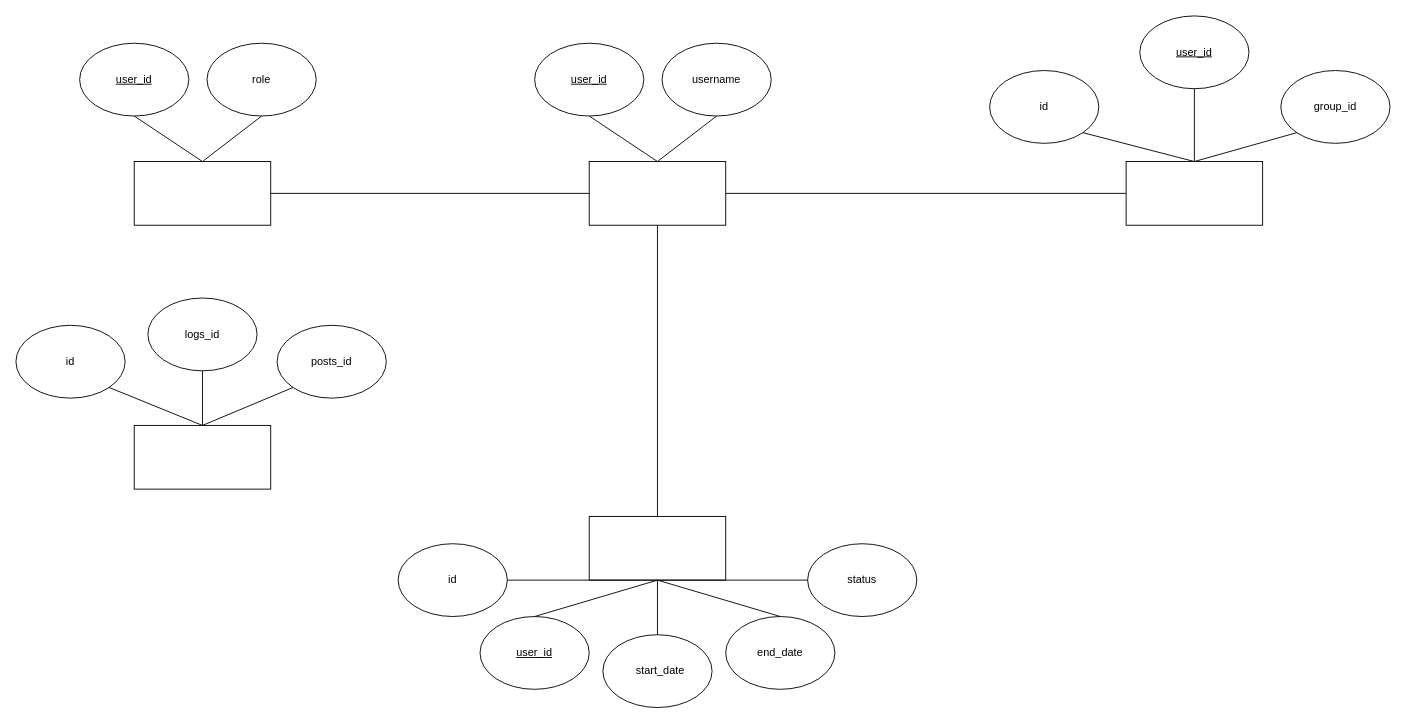
Some shapes in this 1406 by 723 pixel diagram are drawn without their labels. The box of each missing label's shape, as (x1, y1, x2, y2) in pixels:
linked_groups: (1125, 161, 1263, 225)
roles: (133, 161, 271, 225)
security_groups: (133, 425, 271, 489)
subscriptions: (588, 516, 726, 580)
users: (588, 161, 726, 225)
